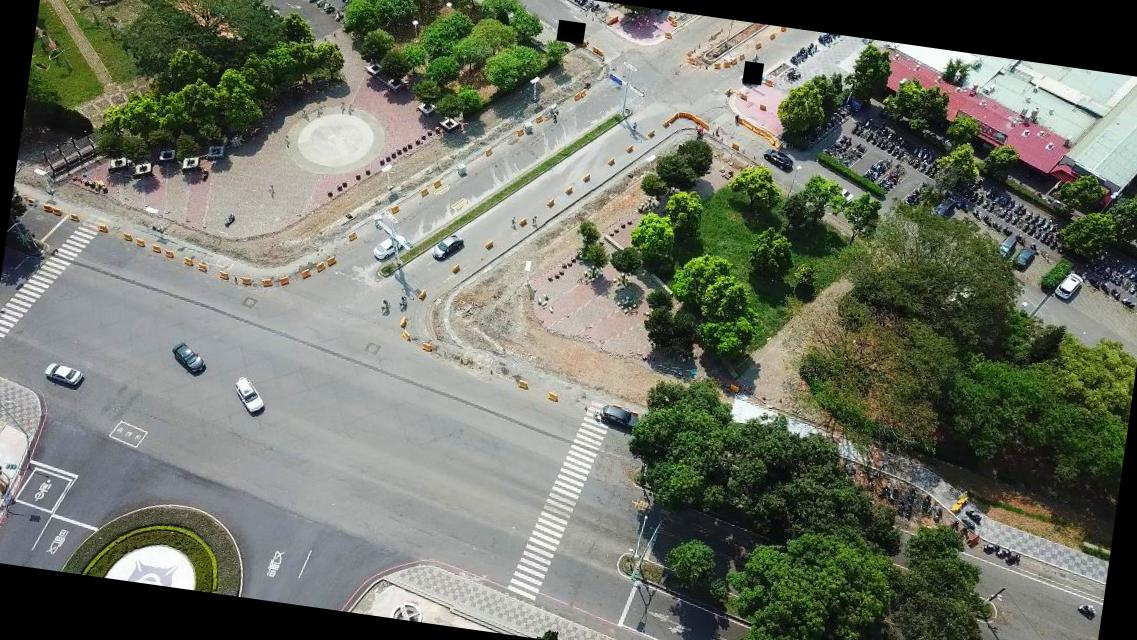vehicle: (231, 374, 267, 416), (170, 339, 209, 377), (597, 402, 640, 432), (43, 360, 84, 390), (372, 230, 406, 264), (431, 230, 464, 264), (764, 143, 795, 173), (1054, 271, 1084, 302), (1012, 244, 1036, 272), (929, 198, 956, 222), (996, 233, 1017, 258), (837, 186, 855, 202)
